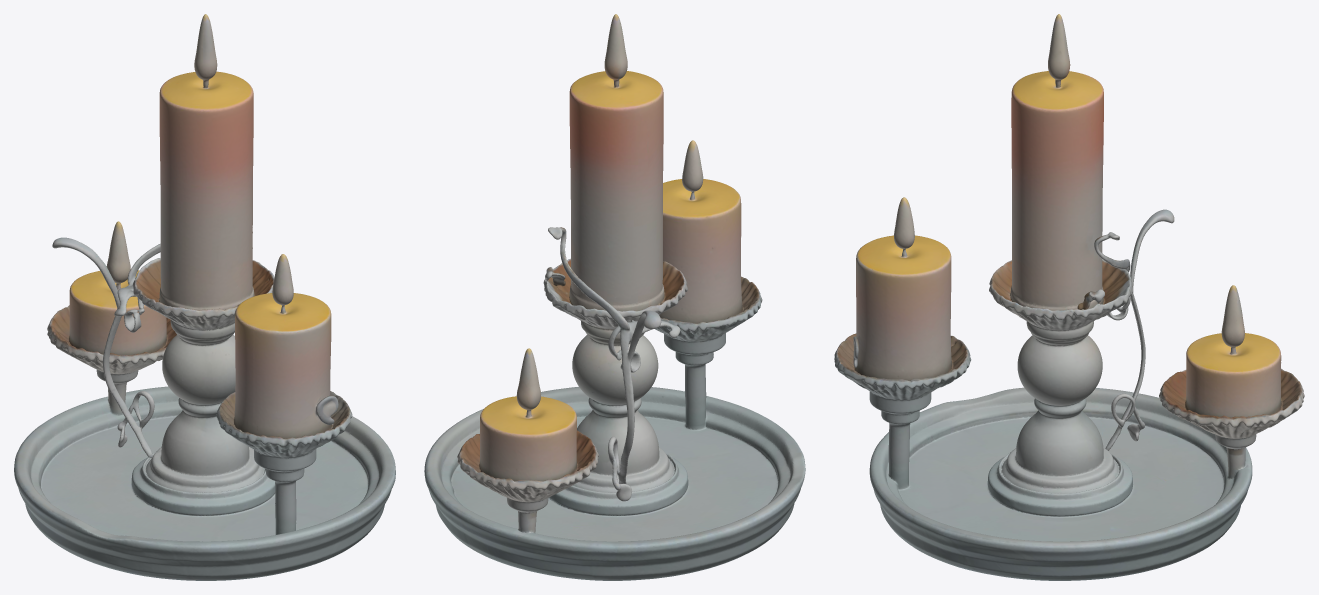
File: detailed_realistic_model_floatingcandles_17.glb
3 renders of one model, left to right at view 1: azimuth 30°, elevation 25°; view 2: azimuth 150°, elevation 25°; view 3: azimuth 270°, elevation 25°, orthographic.
Visible parts, largest first — view 1: tripo_node_491cee94-ef73-439b-82b7-ac4e6e137ad6; view 2: tripo_node_491cee94-ef73-439b-82b7-ac4e6e137ad6; view 3: tripo_node_491cee94-ef73-439b-82b7-ac4e6e137ad6.
Part boxes in pixels (<box>): tripo_node_491cee94-ef73-439b-82b7-ac4e6e137ad6: <box>14,14,395,580</box>; tripo_node_491cee94-ef73-439b-82b7-ac4e6e137ad6: <box>424,14,805,580</box>; tripo_node_491cee94-ef73-439b-82b7-ac4e6e137ad6: <box>834,14,1304,580</box>.
Bounding box in the file's own units: 0.6923 × 1 × 0.857.
Materials: 1 (1 with a texture image).
